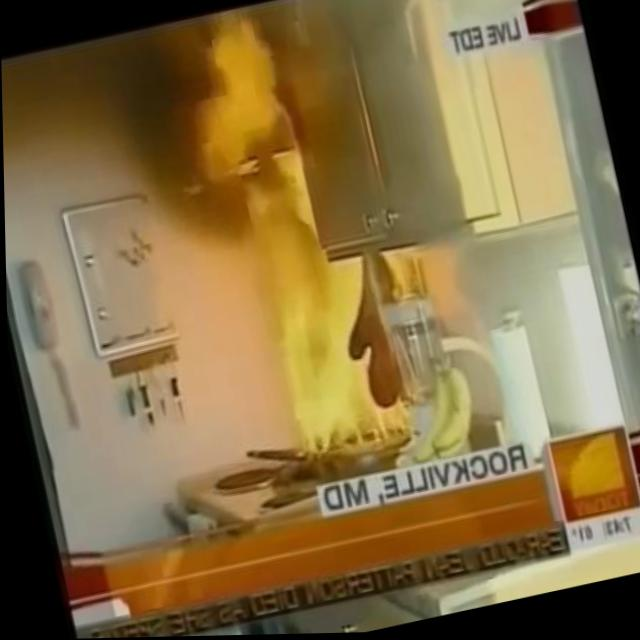fire: (151, 0, 444, 478)
